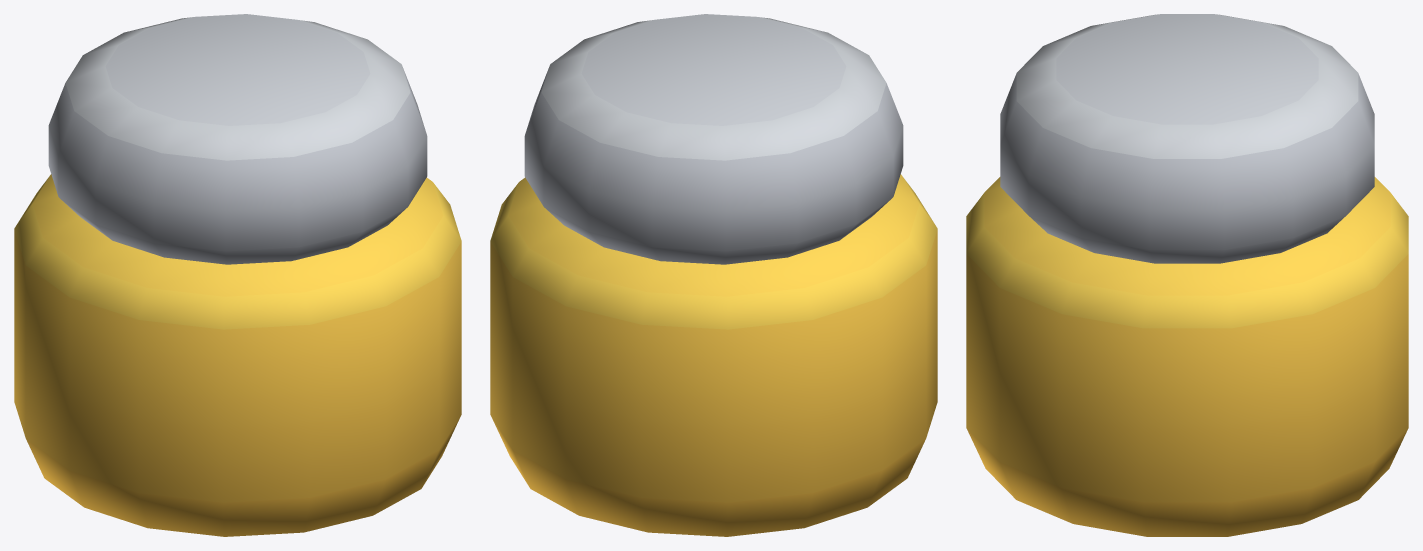
The model's file is container_bathroom_C_yellow.fbx.
The picture shows the model from 3 angles, left to right: view 1: azimuth 30°, elevation 25°; view 2: azimuth 150°, elevation 25°; view 3: azimuth 270°, elevation 25°; orthographic projection.
Parts seen in each view (by area): view 1: container_bathroom_C_yellow; view 2: container_bathroom_C_yellow; view 3: container_bathroom_C_yellow.
Part boxes in pixels (box(x1,y1,x2,y2)): container_bathroom_C_yellow: box(14, 14, 461, 536); container_bathroom_C_yellow: box(490, 14, 937, 536); container_bathroom_C_yellow: box(966, 14, 1408, 536).
Bounding box in the file's own units: 0.312 × 0.3119 × 0.3126.
